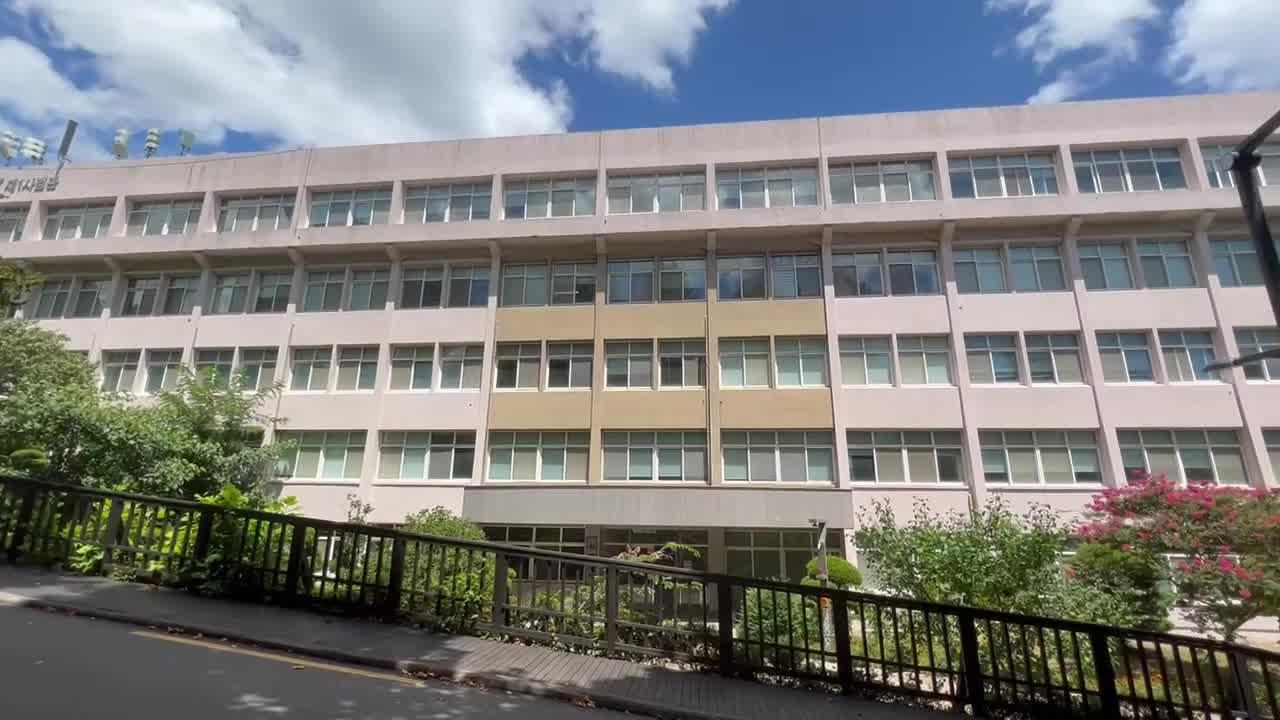building: (120, 152, 1280, 522)
